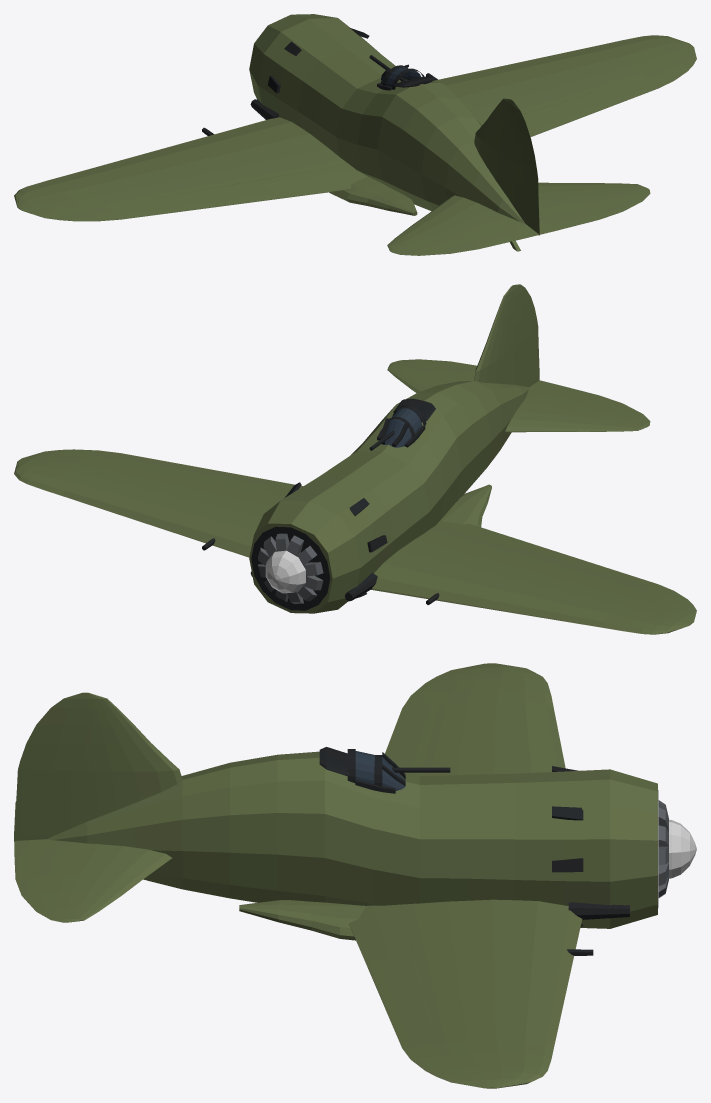
The picture shows the model from 3 angles, top to bottom: view 1: azimuth 30°, elevation 25°; view 2: azimuth 150°, elevation 25°; view 3: azimuth 270°, elevation 25°; orthographic projection. The views are drawn at different scales.
Parts seen in each view (by area): view 1: Fuselage, Wing L, Wing R, Aileron L, Aileron R, Rudder, Stabilizer L, Elevator L, Stabilizer R, Elevator R, Vertical Fin, Wing Root Fillets (+1 smaller); view 2: Fuselage, Wing L, Wing R, Stabilizer L, Rudder, Aileron R, Aileron L, Vertical Fin, Engine, Cowl Face, Elevator L, Spinner (+5 smaller); view 3: Fuselage, Wing R, Wing L, Rudder, Vertical Fin, Stabilizer R, Aileron R, Elevator R, Aileron L, Wing Root Fillets, Spinner, Canopy Frame (+5 smaller).
Part boxes in pixels (box(x1,y1,x2,y2)): Fuselage: box(249, 14, 525, 223); Wing L: box(14, 117, 367, 220); Wing R: box(426, 35, 696, 124); Aileron L: box(60, 180, 279, 221); Aileron R: box(522, 60, 688, 136); Rudder: box(507, 99, 539, 235); Stabilizer L: box(387, 195, 507, 251); Elevator L: box(391, 217, 538, 255); Stabilizer R: box(538, 182, 648, 209); Elevator R: box(539, 189, 650, 234); Vertical Fin: box(474, 98, 510, 195); Wing Root Fillets: box(329, 177, 417, 215); Fuselage: box(249, 380, 528, 613); Wing L: box(371, 521, 696, 634); Wing R: box(14, 449, 303, 557); Stabilizer L: box(505, 395, 648, 432); Rudder: box(511, 284, 539, 386); Aileron R: box(60, 449, 279, 491); Aileron L: box(509, 542, 688, 606); Vertical Fin: box(474, 287, 513, 384); Engine: box(258, 533, 323, 603); Cowl Face: box(251, 526, 330, 610); Elevator L: box(527, 380, 650, 425); Spinner: box(265, 550, 305, 593); Fuselage: box(47, 751, 657, 928); Wing R: box(349, 899, 593, 1088); Wing L: box(421, 663, 565, 775); Rudder: box(14, 692, 89, 841); Vertical Fin: box(88, 692, 182, 820); Stabilizer R: box(55, 842, 171, 922); Aileron R: box(365, 956, 455, 1071); Elevator R: box(14, 839, 71, 922); Aileron L: box(385, 679, 455, 775); Wing Root Fillets: box(239, 900, 365, 940); Spinner: box(669, 819, 696, 878); Canopy Frame: box(347, 749, 405, 793).
Bounding box in the file's own units: 9 × 2.23 × 6.12.
